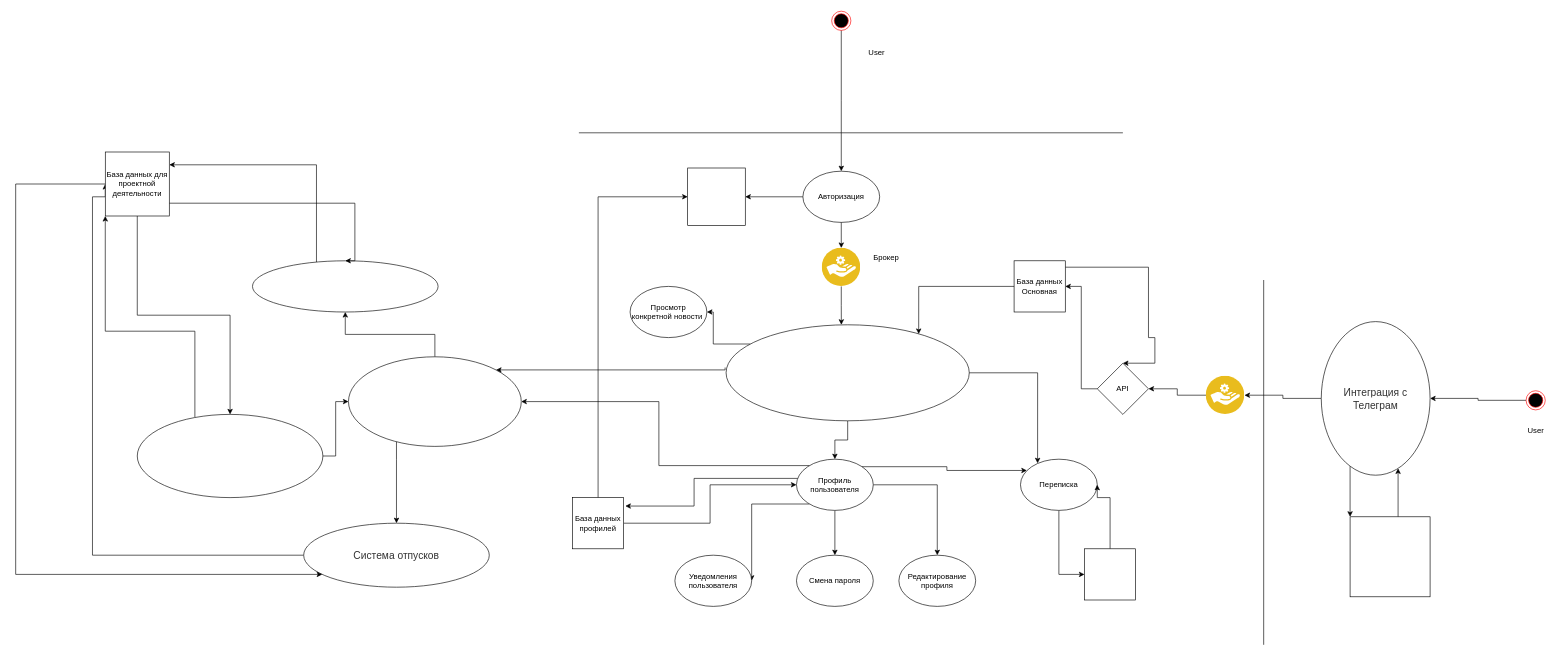
This 1563x657 diagram has some shape labels left out. The centre of each missing label's shape, as x and y in pixels:
"База данных о текуших чатах и пользователях" goes at (x=1389, y=556).
"База данных пользователей" goes at (x=716, y=196).
"База данных чатов" goes at (x=1110, y=574).
"Главная страница с Лентой новостей и навигационным меню" goes at (x=847, y=372).
"Навигационное меню" goes at (x=434, y=401).
"Система учёта рабочего времени" goes at (x=230, y=456).
"Трекинг задач" goes at (x=345, y=286).
